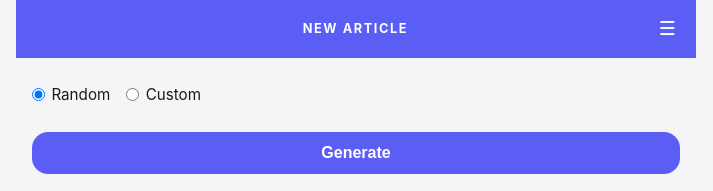
it: NewArticlePage Generate button state › Generate button is disabled while generating
What coordinates should you click on to do the following:
click the button "Generate"
I would click on:
 (356, 153)
Its box is top-left (32, 132), bottom-right (680, 174).
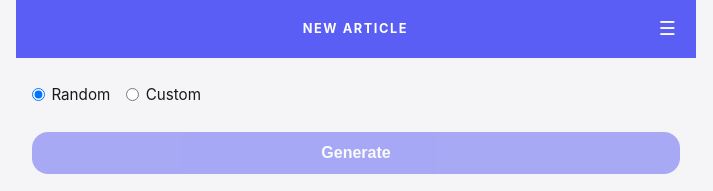
Check: the button "Generate" is disabled, box top-left (32, 132), bottom-right (680, 174)
